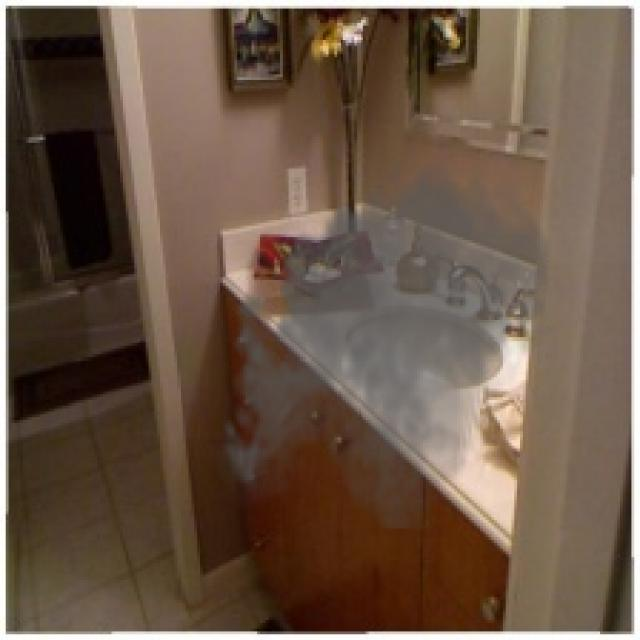smoke: (212, 146, 557, 528)
